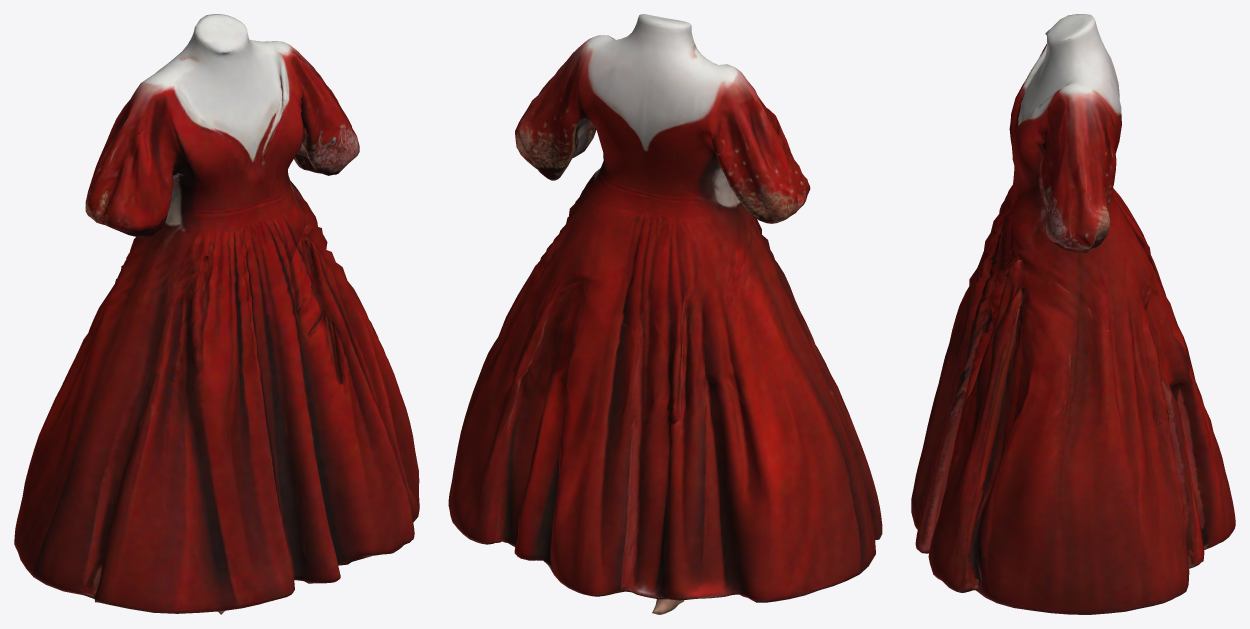
File: crim.glb
3 renders of one model, left to right at view 1: azimuth 30°, elevation 25°; view 2: azimuth 150°, elevation 25°; view 3: azimuth 270°, elevation 25°, orthographic.
Size of the model in its own units: 1.35 by 1.99 by 1.01.
Materials: 1 (1 with a texture image).
